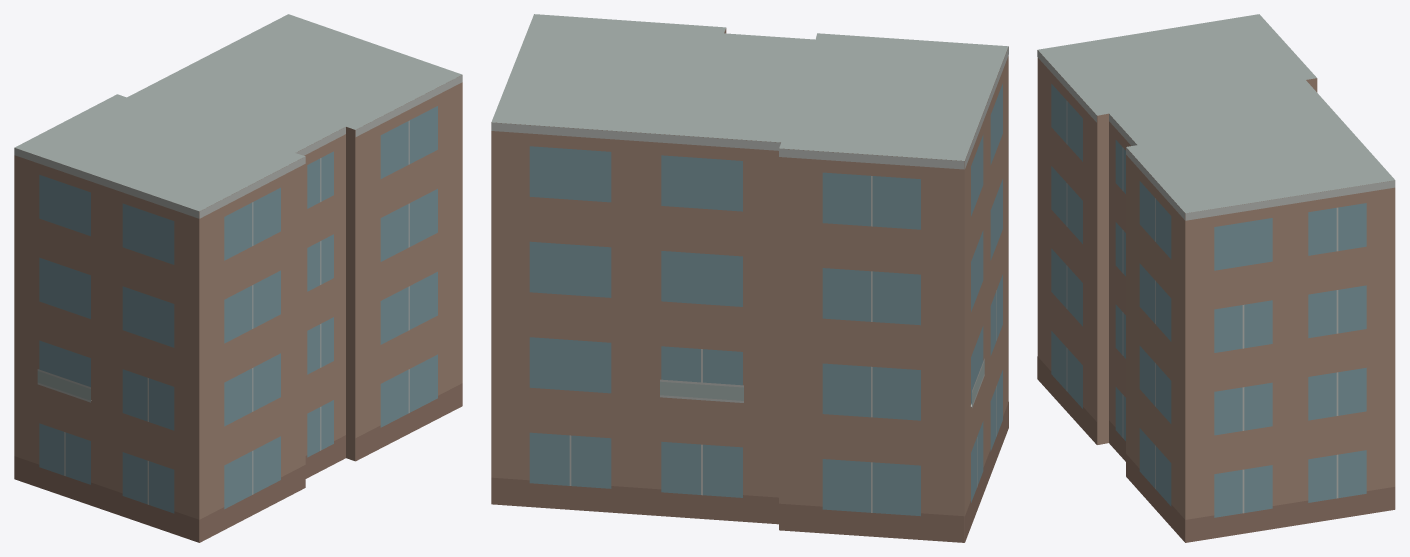
Rendered from survey-upis-32957800.glb.
The picture shows the model from 3 angles, left to right: view 1: azimuth 30°, elevation 25°; view 2: azimuth 150°, elevation 25°; view 3: azimuth 270°, elevation 25°; orthographic projection. The views are drawn at different scales.
Visible parts, largest first — view 1: survey-upis-32957800.tmp; view 2: survey-upis-32957800.tmp; view 3: survey-upis-32957800.tmp.
Part boxes in pixels (box(x1,y1,x2,y2)): survey-upis-32957800.tmp: box(14, 14, 462, 542); survey-upis-32957800.tmp: box(491, 14, 1008, 542); survey-upis-32957800.tmp: box(1037, 14, 1395, 542).
Bounding box in the file's own units: 14.14 × 10.89 × 10.73.
